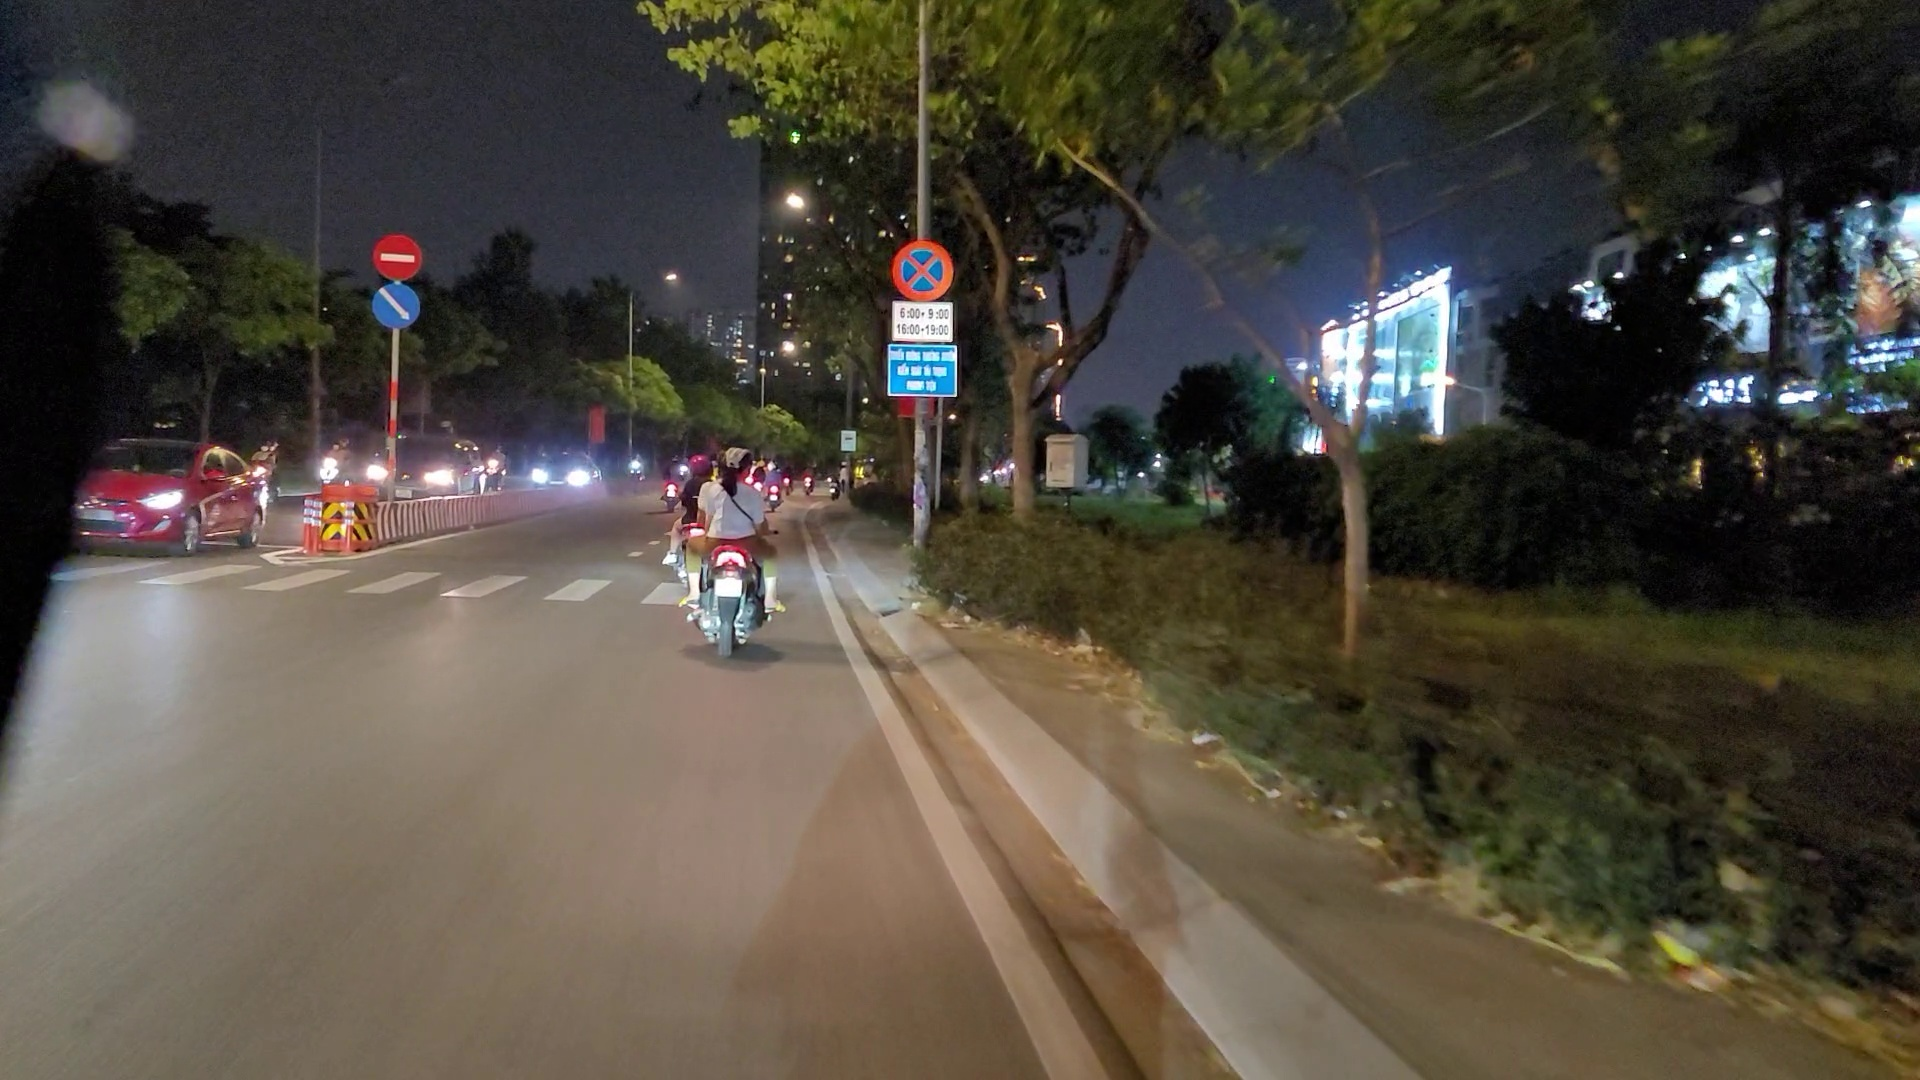Bien khac: (887, 239, 952, 301)
Cam di nguoc chieu: (367, 231, 421, 284)
Huong di phai re phai: (371, 281, 421, 327)
